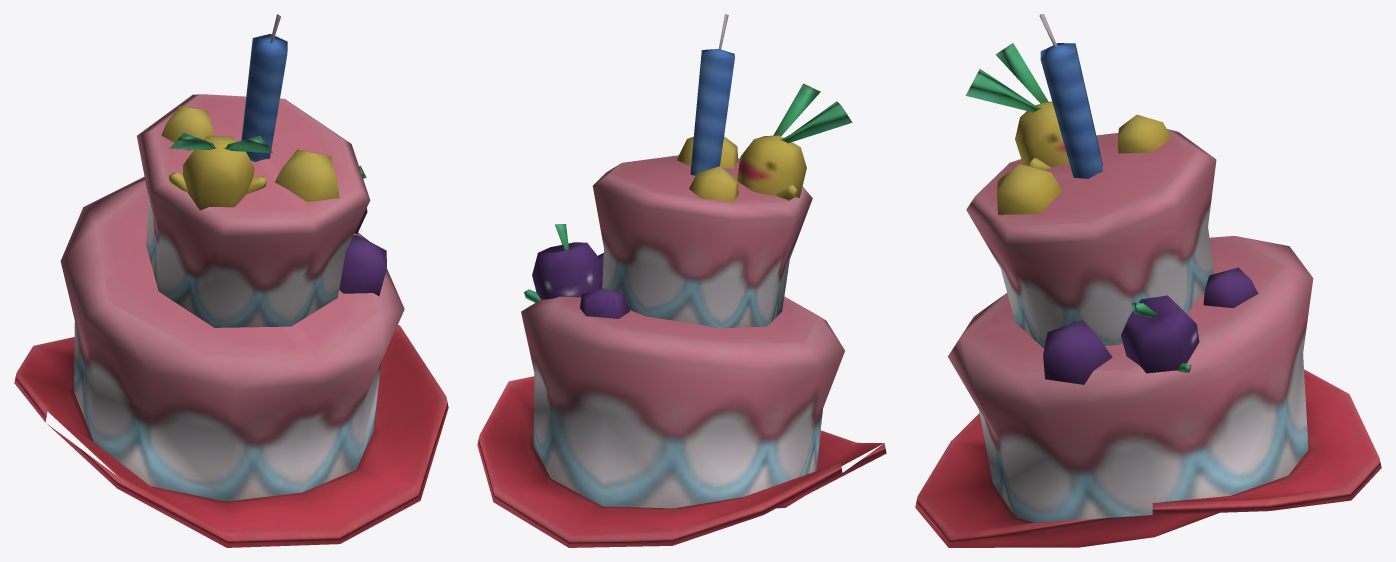
Rendered from cakeHat.glb.
3 renders of one model, left to right at view 1: azimuth 30°, elevation 25°; view 2: azimuth 150°, elevation 25°; view 3: azimuth 270°, elevation 25°, orthographic. The views are drawn at different scales.
Parts seen in each view (by area): view 1: cakeHat; view 2: cakeHat; view 3: cakeHat.
Part boxes in pixels (x1,y1,x2,y2): cakeHat: (14,14,448,547); cakeHat: (477,14,886,547); cakeHat: (915,14,1381,547).
Size of the model in its own units: 0.3882 by 0.5038 by 0.4316.
Materials: 1 (1 with a texture image).
